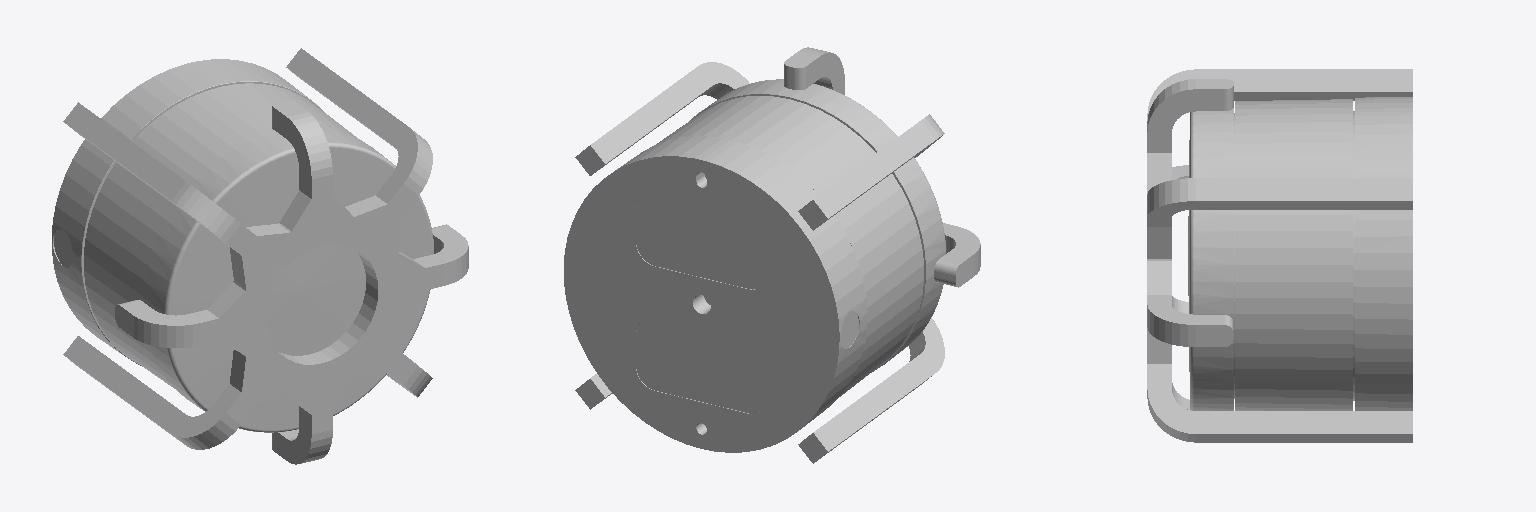
Rendered from velo.obj.
3 renders of one model, left to right at view 1: azimuth 30°, elevation 25°; view 2: azimuth 150°, elevation 25°; view 3: azimuth 270°, elevation 25°, orthographic.
Parts seen in each view (by area): view 1: Velo_Entire_Platform—Spot,_VERI17.729; view 2: Velo_Entire_Platform—Spot,_VERI17.729; view 3: Velo_Entire_Platform—Spot,_VERI17.729.
Part boxes in pixels (bbox=[...]): Velo_Entire_Platform—Spot,_VERI17.729: bbox=[52, 48, 468, 464]; Velo_Entire_Platform—Spot,_VERI17.729: bbox=[564, 47, 980, 463]; Velo_Entire_Platform—Spot,_VERI17.729: bbox=[1147, 69, 1412, 442].
Bounding box in the file's own units: 0.1229 × 0.1229 × 0.0859.